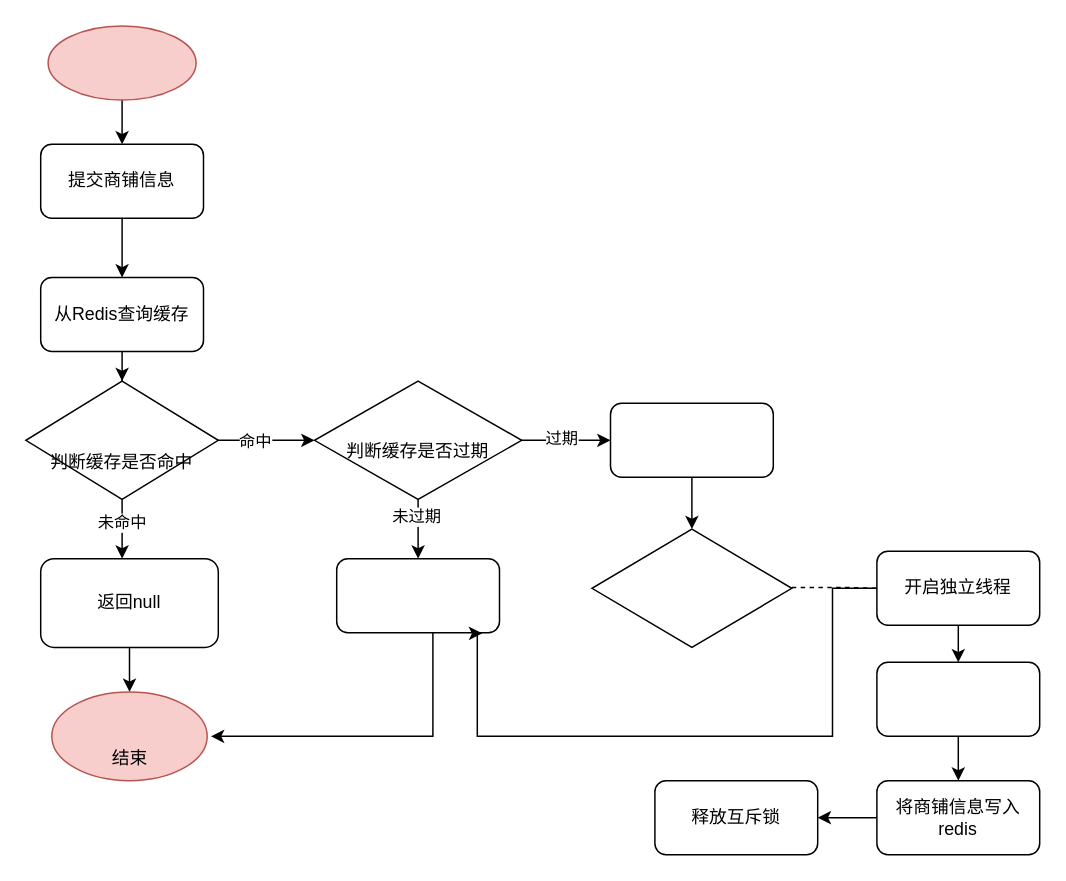
The diagram is 1066 pixels wide and 881 high, and some of its shapes have lost their labels. The shapes that lost their labels are listed below. From the top down, each one's centre as x and y in pixels, then its label:
(x=121, y=62): 开始
(x=691, y=439): 尝试获取锁
(x=417, y=595): 返回商铺信息
(x=691, y=588): 判断是否获取锁成功
(x=957, y=698): 根据id查询数据库
